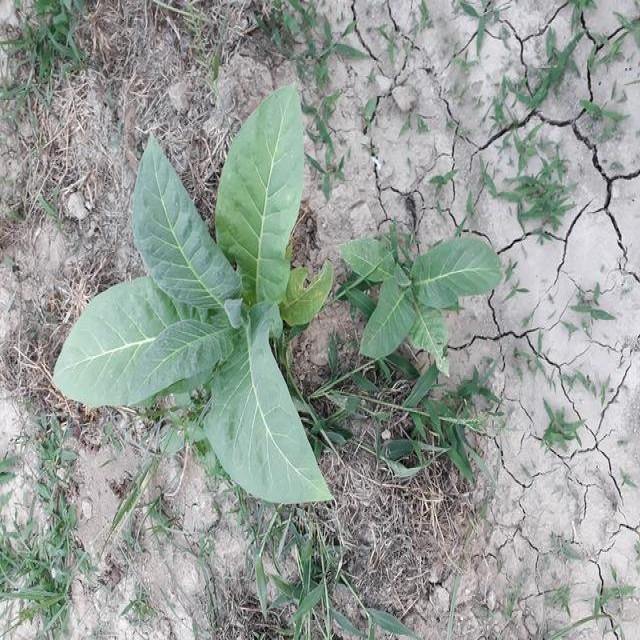crop: (48, 70, 338, 521)
